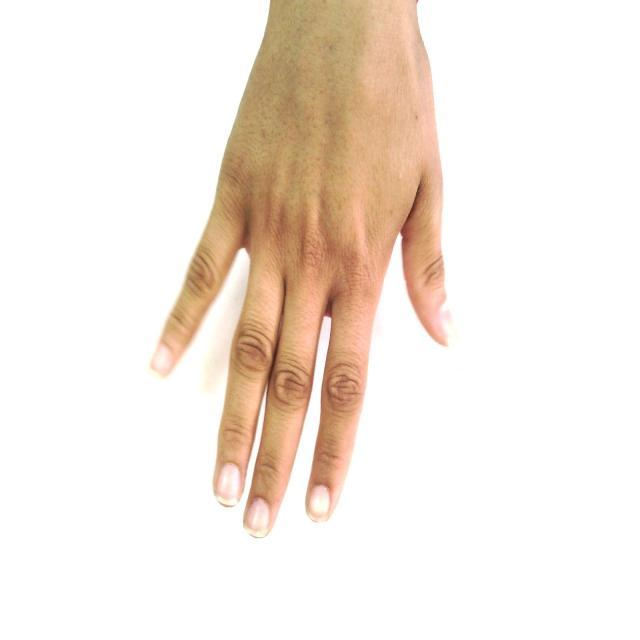Fingernail: (217, 464, 240, 505), (246, 498, 269, 535), (309, 485, 329, 522), (152, 344, 171, 374), (440, 308, 455, 344)
